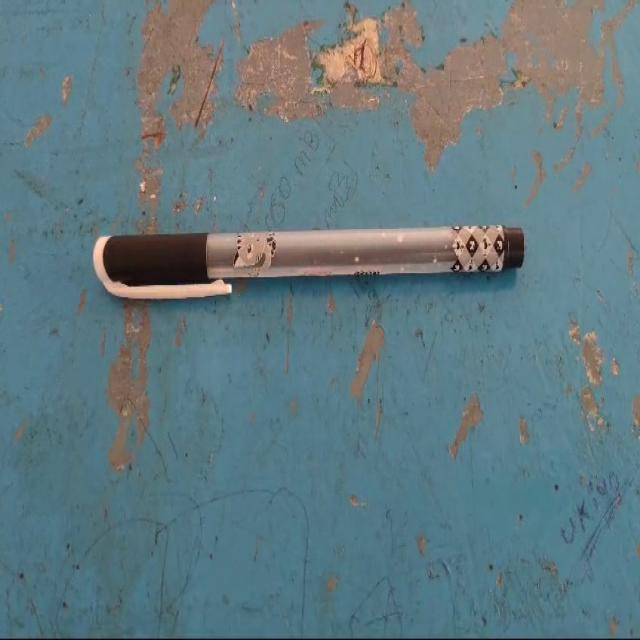pen: (56, 146, 552, 393)
